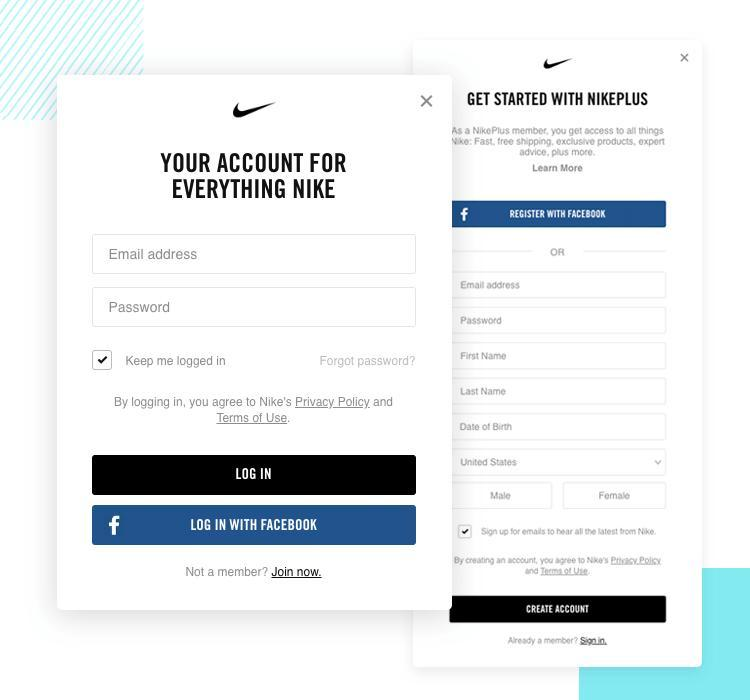button: (93, 455, 418, 497), (92, 505, 418, 546), (450, 597, 668, 624), (563, 482, 668, 511), (454, 483, 552, 509)
checkbox: (94, 351, 113, 371), (459, 525, 474, 540)
dropdown: (453, 450, 667, 475)
icon: (419, 93, 437, 111), (678, 53, 692, 65)
input: (93, 288, 417, 328), (94, 235, 416, 274), (454, 343, 668, 372), (455, 272, 667, 300), (454, 306, 666, 334), (454, 414, 667, 441), (455, 379, 667, 405)
label: (453, 201, 667, 229), (480, 526, 660, 539), (124, 355, 231, 370)
